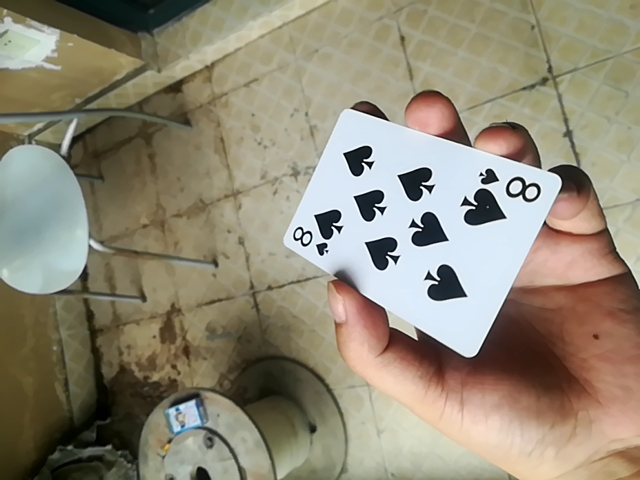ht 8: (279, 102, 564, 358)
